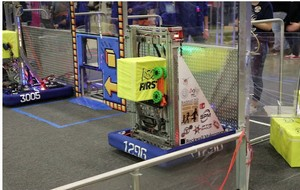cube: (116, 58, 164, 100), (271, 116, 300, 165), (1, 28, 19, 58)
